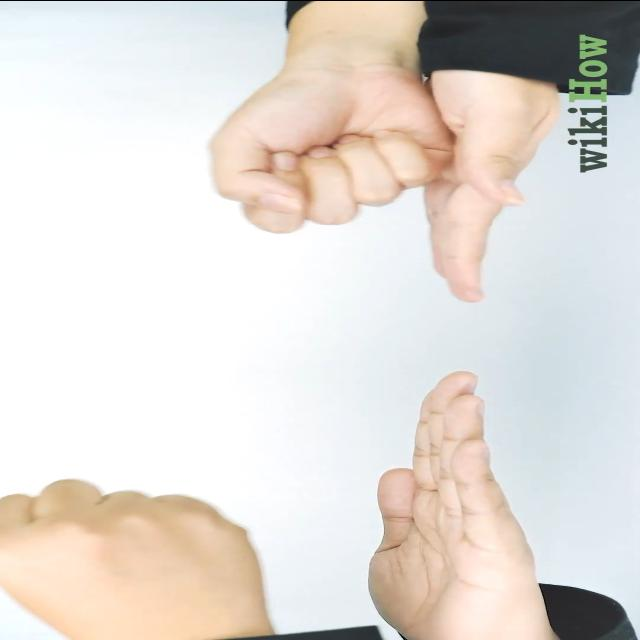Rock: (0, 477, 268, 640), (204, 62, 452, 234)
